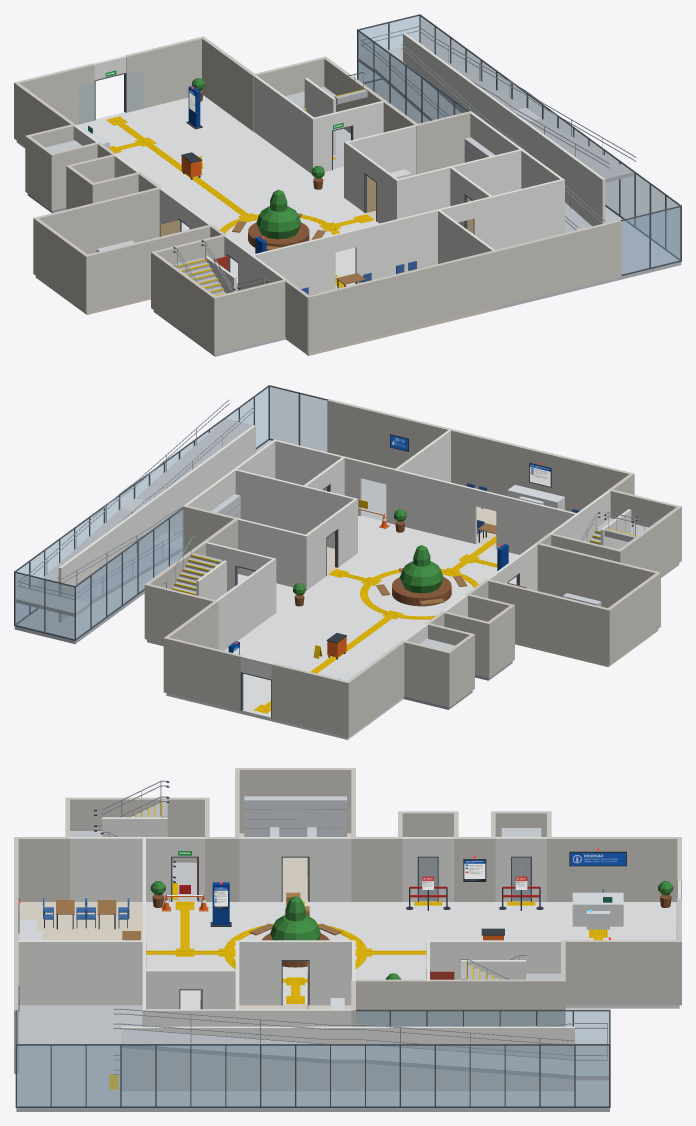
File: predio-teste-p01.glb
3 renders of one model, top to bottom at view 1: azimuth 30°, elevation 25°; view 2: azimuth 150°, elevation 25°; view 3: azimuth 270°, elevation 25°, orthographic. The views are drawn at different scales.
Visible parts, largest first — view 1: PCTP01PAREDE_GERAL, PCTP01PISO_LAJE, PCTP01RAMPA_1, PCTP01PORTA_GERAL, PCTP01MOBILIA_GERAL, PCTP01ESCADA_B, PCTP01PISOTATIL_DIRECIONAL, PCTP01ESCADA_A, PCTP01PISOTATIL_ALERTA, PCTP01REFERENCIA_MAPA; view 2: PCTP01PAREDE_GERAL, PCTP01PISO_LAJE, PCTP01RAMPA_1, PCTP01MOBILIA_GERAL, PCTP01PORTA_GERAL, PCTP01ESCADA_A, PCTP01PISOTATIL_DIRECIONAL, PCTP01ESCADA_B, PCTP01PISOTATIL_ALERTA; view 3: PCTP01PAREDE_GERAL, PCTP01PISO_LAJE, PCTP01RAMPA_1, PCTP01MOBILIA_GERAL, PCTP01PORTA_GERAL, PCTP01ESCADA_B, PCTP01PISOTATIL_DIRECIONAL, PCTP01ESCADA_A, PCTP01PISOTATIL_ALERTA, PCTP01REFERENCIA_RECEPCAO, PCTP01REFERENCIA_AVISOS, PCTP01ELEVADOR_1 (+2 smaller).
Boxes of the visible parts, left/top/right/bottom form: PCTP01PAREDE_GERAL: left=14, top=14, right=681, bottom=354; PCTP01PISO_LAJE: left=16, top=79, right=681, bottom=356; PCTP01RAMPA_1: left=358, top=26, right=636, bottom=232; PCTP01PORTA_GERAL: left=79, top=55, right=476, bottom=290; PCTP01MOBILIA_GERAL: left=80, top=78, right=494, bottom=294; PCTP01ESCADA_B: left=173, top=240, right=267, bottom=295; PCTP01PISOTATIL_DIRECIONAL: left=110, top=120, right=364, bottom=287; PCTP01ESCADA_A: left=285, top=72, right=367, bottom=155; PCTP01PISOTATIL_ALERTA: left=106, top=116, right=374, bottom=276; PCTP01REFERENCIA_MAPA: left=186, top=86, right=202, bottom=129; PCTP01PAREDE_GERAL: left=14, top=385, right=681, bottom=737; PCTP01PISO_LAJE: left=14, top=440, right=679, bottom=739; PCTP01RAMPA_1: left=15, top=399, right=255, bottom=622; PCTP01MOBILIA_GERAL: left=211, top=483, right=601, bottom=680; PCTP01PORTA_GERAL: left=235, top=461, right=567, bottom=718; PCTP01ESCADA_A: left=163, top=536, right=226, bottom=599; PCTP01PISOTATIL_DIRECIONAL: left=261, top=536, right=497, bottom=709; PCTP01ESCADA_B: left=581, top=509, right=654, bottom=549; PCTP01PISOTATIL_ALERTA: left=253, top=554, right=479, bottom=713; PCTP01PAREDE_GERAL: left=14, top=768, right=681, bottom=1107; PCTP01PISO_LAJE: left=16, top=833, right=679, bottom=1111; PCTP01RAMPA_1: left=113, top=1008, right=608, bottom=1091; PCTP01MOBILIA_GERAL: left=19, top=796, right=673, bottom=1009; PCTP01PORTA_GERAL: left=142, top=837, right=681, bottom=1009; PCTP01ESCADA_B: left=70, top=780, right=175, bottom=882; PCTP01PISOTATIL_DIRECIONAL: left=146, top=905, right=602, bottom=999; PCTP01ESCADA_A: left=460, top=955, right=560, bottom=979; PCTP01PISOTATIL_ALERTA: left=109, top=883, right=607, bottom=1089; PCTP01REFERENCIA_RECEPCAO: left=569, top=848, right=626, bottom=866; PCTP01REFERENCIA_AVISOS: left=210, top=881, right=231, bottom=926; PCTP01ELEVADOR_1: left=512, top=857, right=530, bottom=901.
Size of the model in its own units: 28.13 by 4.14 by 28.7.
48 materials, 8 textured.
